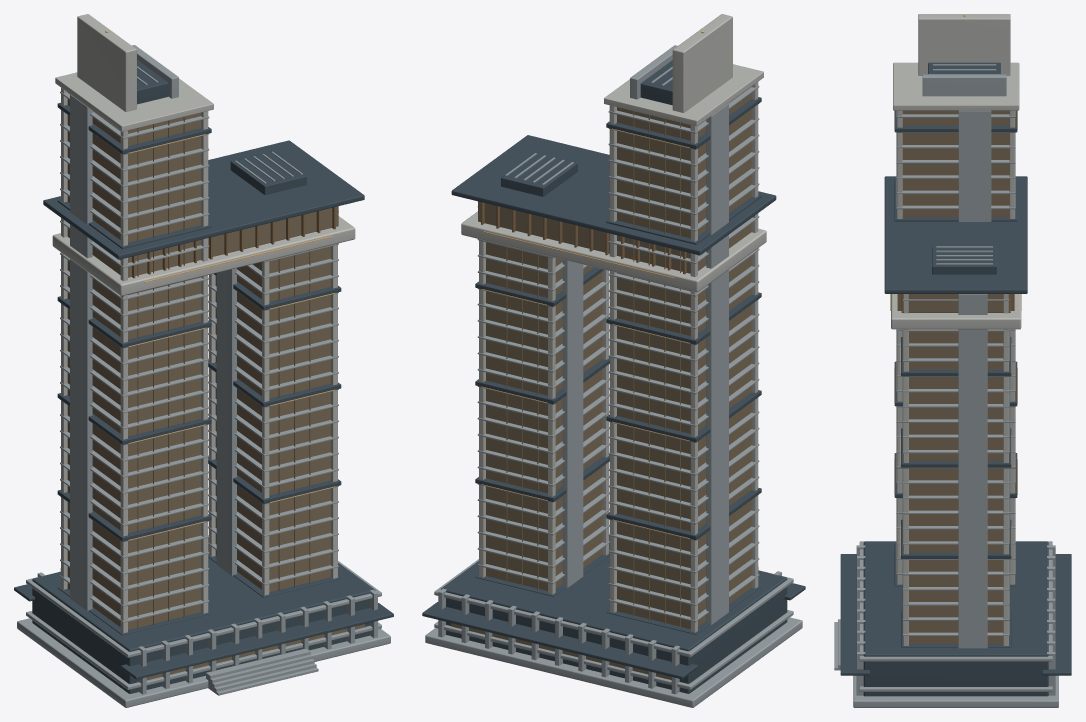
The model's file is MeridianExchange.fbx.
The picture shows the model from 3 angles, left to right: view 1: azimuth 30°, elevation 25°; view 2: azimuth 150°, elevation 25°; view 3: azimuth 270°, elevation 25°; orthographic projection. The views are drawn at different scales.
Visible parts, largest first — view 1: MeridianExchange; view 2: MeridianExchange; view 3: MeridianExchange.
Boxes of the visible parts, box(x1,y1,x2,y2) form: MeridianExchange: box(14, 14, 393, 707); MeridianExchange: box(422, 14, 805, 707); MeridianExchange: box(834, 14, 1071, 707).
Bounding box in the file's own units: 69 × 155 × 56.5.
